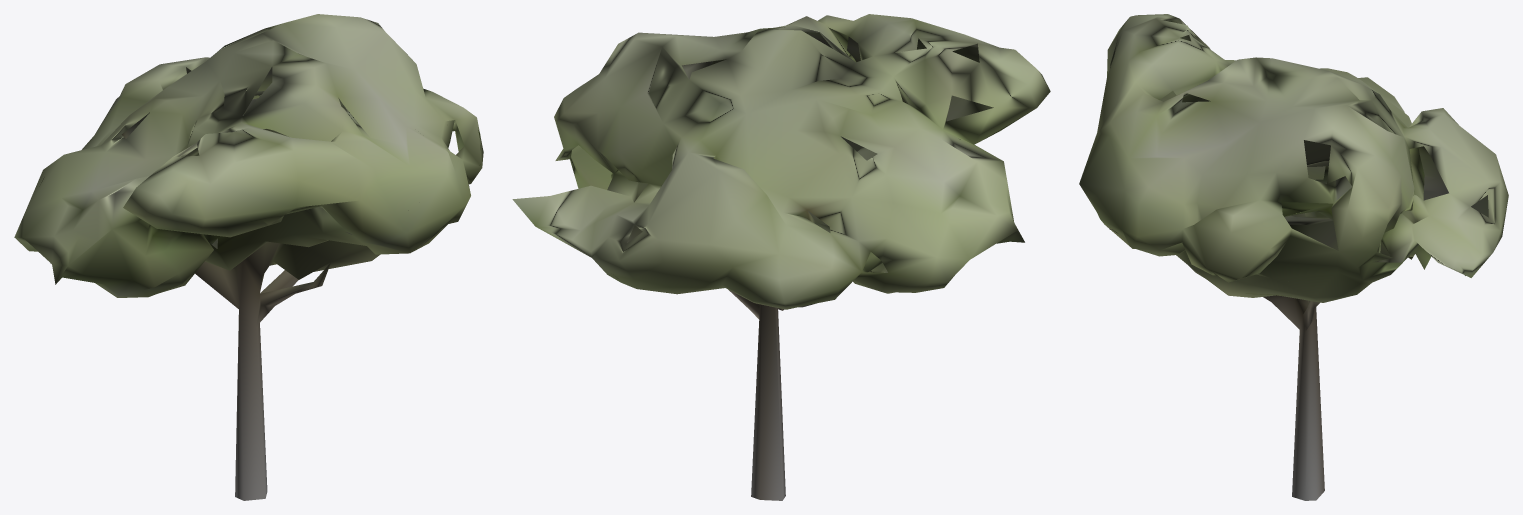
Rendered from birch_near.glb.
The picture shows the model from 3 angles, left to right: view 1: azimuth 30°, elevation 25°; view 2: azimuth 150°, elevation 25°; view 3: azimuth 270°, elevation 25°; orthographic projection. The views are drawn at different scales.
Parts seen in each view (by area): view 1: birch; view 2: birch; view 3: birch.
Boxes of the visible parts, box(x1,y1,x2,y2) form: birch: box(14, 14, 483, 500); birch: box(512, 14, 1050, 500); birch: box(1079, 14, 1508, 500).
Size of the model in its own units: 0.9801 by 1 by 0.8902.
